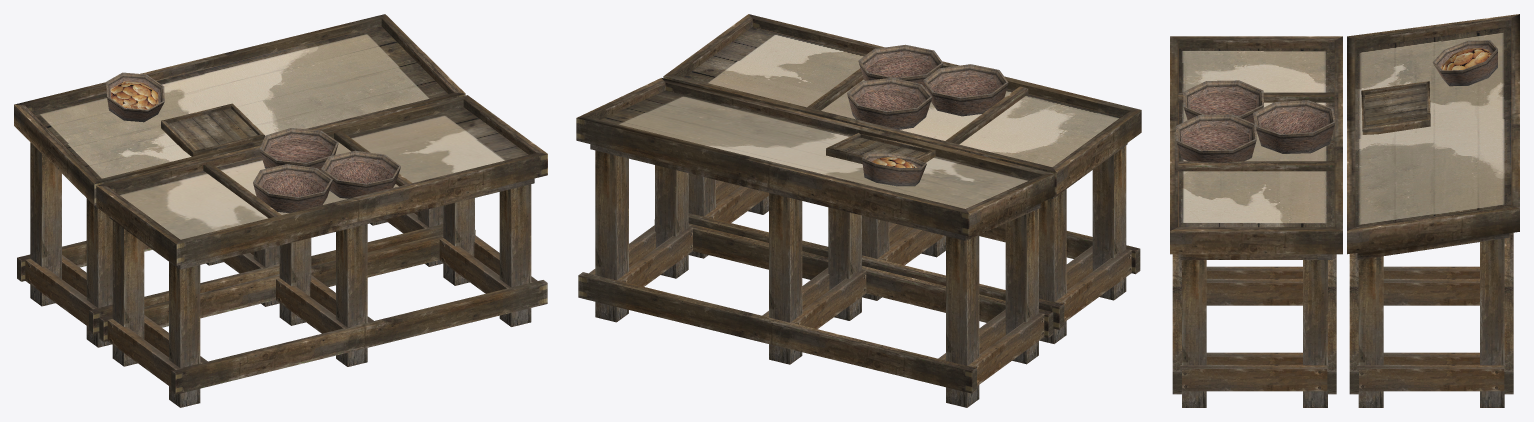
The model's file is shop3.fbx.
The picture shows the model from 3 angles, left to right: view 1: azimuth 30°, elevation 25°; view 2: azimuth 150°, elevation 25°; view 3: azimuth 270°, elevation 25°; orthographic projection. The views are drawn at different scales.
Visible parts, largest first — view 1: LV_M5_Port_FruitShop01A_SM_KWY; view 2: LV_M5_Port_FruitShop01A_SM_KWY; view 3: LV_M5_Port_FruitShop01A_SM_KWY.
Boxes of the visible parts, bbox=[...] form: LV_M5_Port_FruitShop01A_SM_KWY: bbox=[14, 14, 547, 407]; LV_M5_Port_FruitShop01A_SM_KWY: bbox=[576, 14, 1141, 407]; LV_M5_Port_FruitShop01A_SM_KWY: bbox=[1170, 14, 1519, 407].
Bounding box in the file's own units: 0.4454 × 0.2356 × 0.3371.
1 material, 1 textured.
